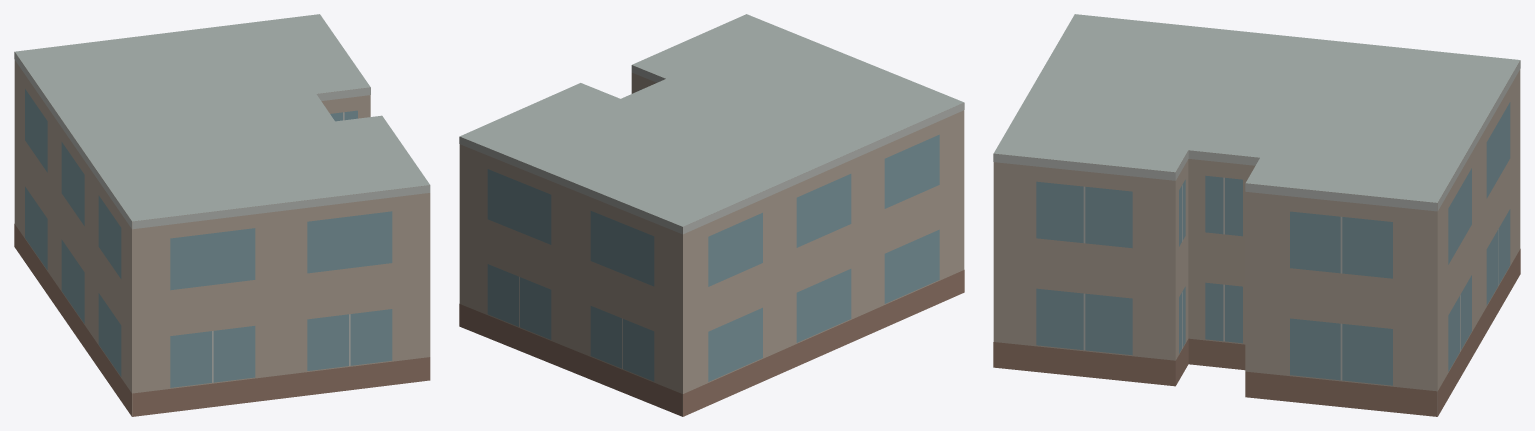
The model's file is survey-upis-32822592.glb.
The picture shows the model from 3 angles, left to right: view 1: azimuth 30°, elevation 25°; view 2: azimuth 150°, elevation 25°; view 3: azimuth 270°, elevation 25°; orthographic projection. The views are drawn at different scales.
Parts seen in each view (by area): view 1: survey-upis-32822592.tmp; view 2: survey-upis-32822592.tmp; view 3: survey-upis-32822592.tmp.
Boxes of the visible parts, left/top/right/bottom form: survey-upis-32822592.tmp: left=14, top=14, right=430, bottom=416; survey-upis-32822592.tmp: left=459, top=14, right=964, bottom=416; survey-upis-32822592.tmp: left=993, top=14, right=1520, bottom=416.
Bounding box in the file's own units: 11.56 × 6.1 × 13.63.
